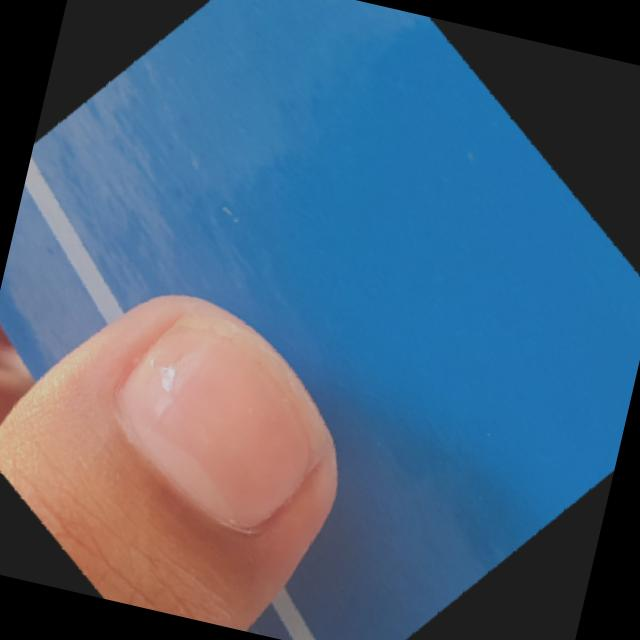Nail: (117, 314, 329, 530)
